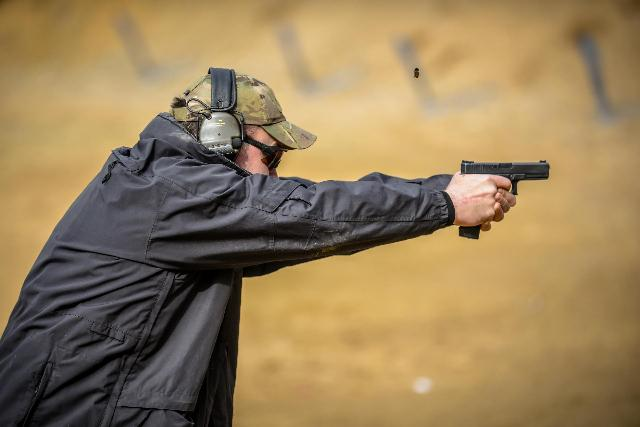handgun: (452, 156, 554, 243)
